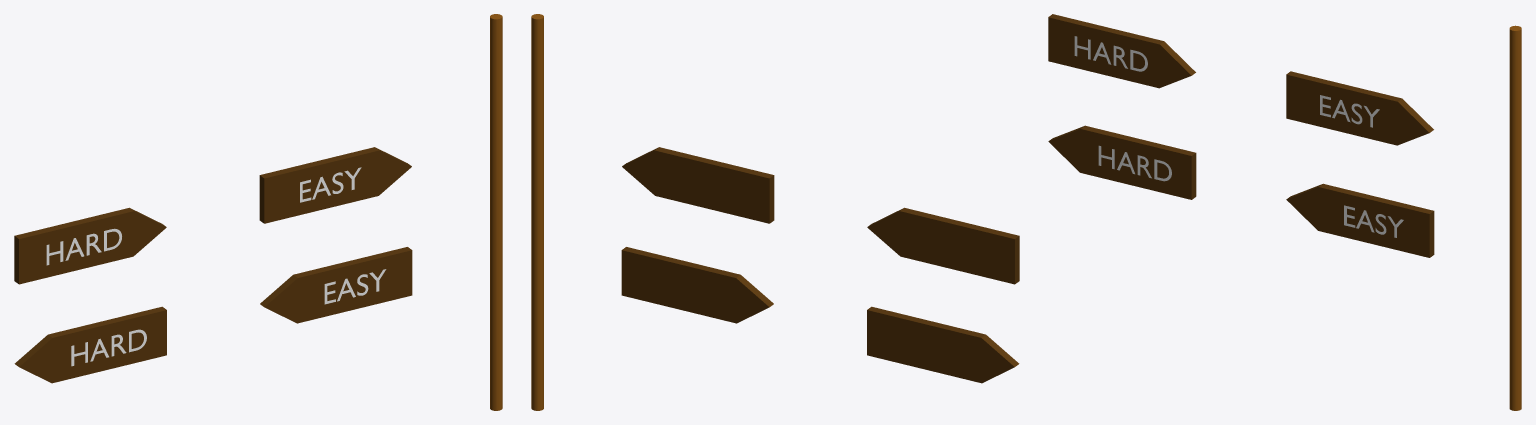
File: roadsigns.fbx
The picture shows the model from 3 angles, left to right: view 1: azimuth 30°, elevation 25°; view 2: azimuth 150°, elevation 25°; view 3: azimuth 330°, elevation 25°; orthographic projection. The views are drawn at different scales.
Parts seen in each view (by area): view 1: Cube.002, Cube, Cube.001, Cube.003, Cylinder, Text.001, Text, Easy Path, Easy Path.001; view 2: Cube.002, Cube, Cube.003, Cube.001, Cylinder; view 3: Cube, Cube.002, Cube.001, Cube.003, Cylinder, Text.001, Text, Easy Path, Easy Path.001.
Boxes of the visible parts, x1=… form: Cube.002: x1=259, y1=147, x2=411, y2=223; Cube: x1=260, y1=247, x2=412, y2=323; Cube.001: x1=14, y1=306, x2=166, y2=383; Cube.003: x1=14, y1=207, x2=166, y2=284; Cylinder: x1=490, y1=14, x2=502, y2=410; Text.001: x1=46, y1=228, x2=121, y2=265; Text: x1=71, y1=329, x2=146, y2=366; Easy Path: x1=324, y1=269, x2=386, y2=304; Easy Path.001: x1=300, y1=167, x2=361, y2=202; Cube.002: x1=622, y1=147, x2=774, y2=223; Cube: x1=621, y1=247, x2=773, y2=323; Cube.003: x1=867, y1=207, x2=1019, y2=284; Cube.001: x1=867, y1=306, x2=1019, y2=383; Cylinder: x1=531, y1=14, x2=543, y2=410; Cube: x1=1286, y1=183, x2=1434, y2=257; Cube.002: x1=1286, y1=71, x2=1433, y2=145; Cube.001: x1=1048, y1=125, x2=1196, y2=199; Cube.003: x1=1048, y1=14, x2=1195, y2=88; Cylinder: x1=1509, y1=25, x2=1521, y2=410; Text.001: x1=1074, y1=36, x2=1147, y2=71; Text: x1=1098, y1=145, x2=1171, y2=181; Easy Path: x1=1344, y1=205, x2=1403, y2=237; Easy Path.001: x1=1320, y1=95, x2=1379, y2=127.
Size of the model in its own units: 1687 by 1302 by 38.09.
